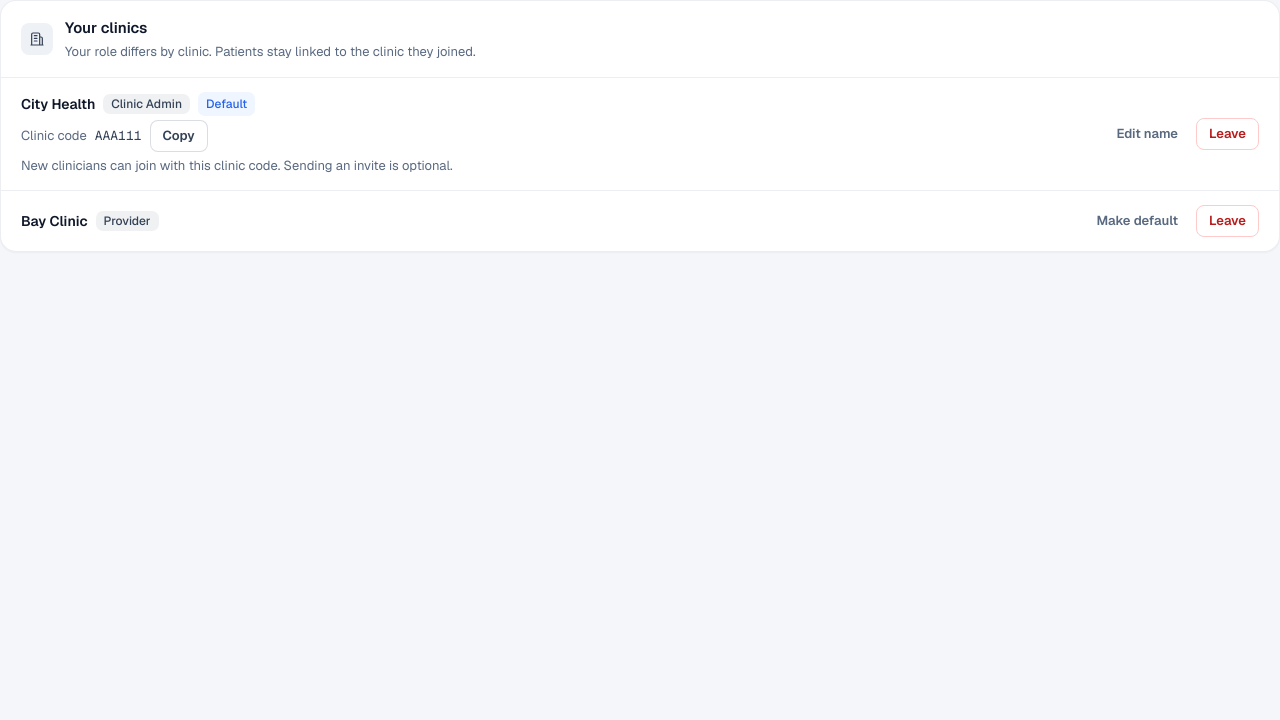
it: Your clinics card › lets the user cancel without leaving
Click the button with aria-label "Leave Bay Clinic". click: (1228, 220)
box: [1196,204,1259,236]
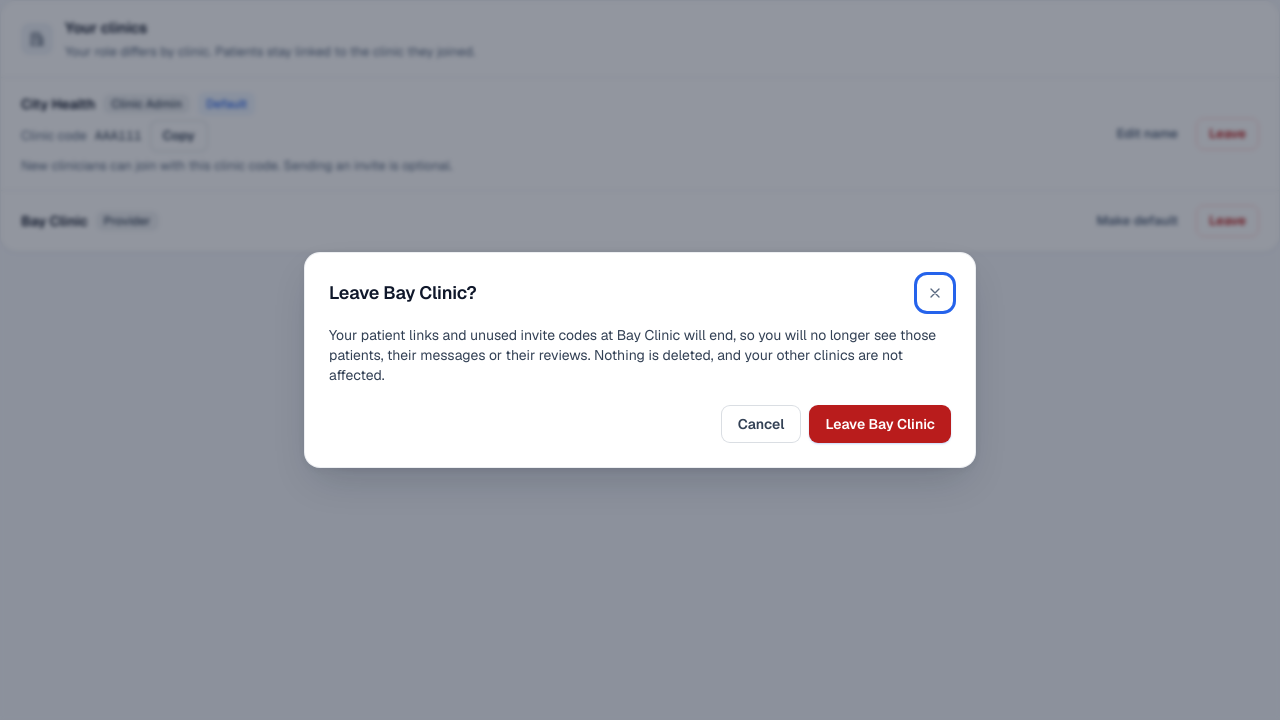
Click the button "Cancel". click: (761, 424)
box: [721,405,801,443]
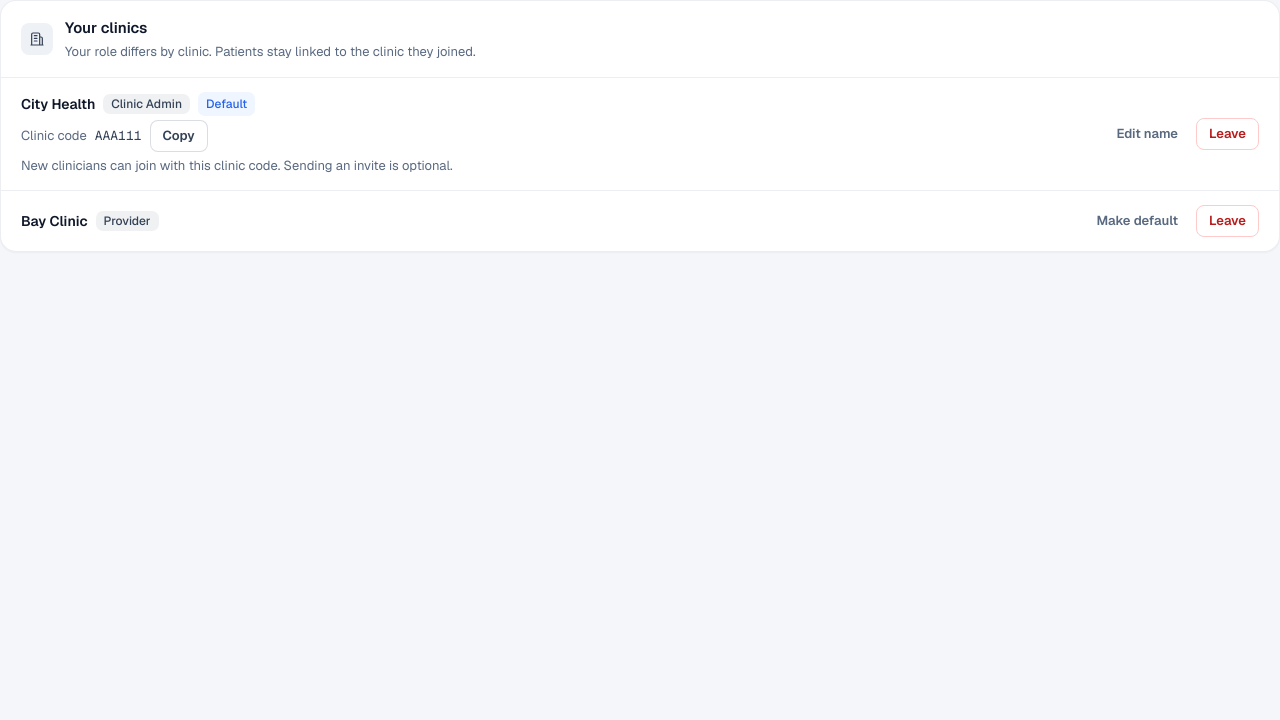
Expected: the dialog is gone
